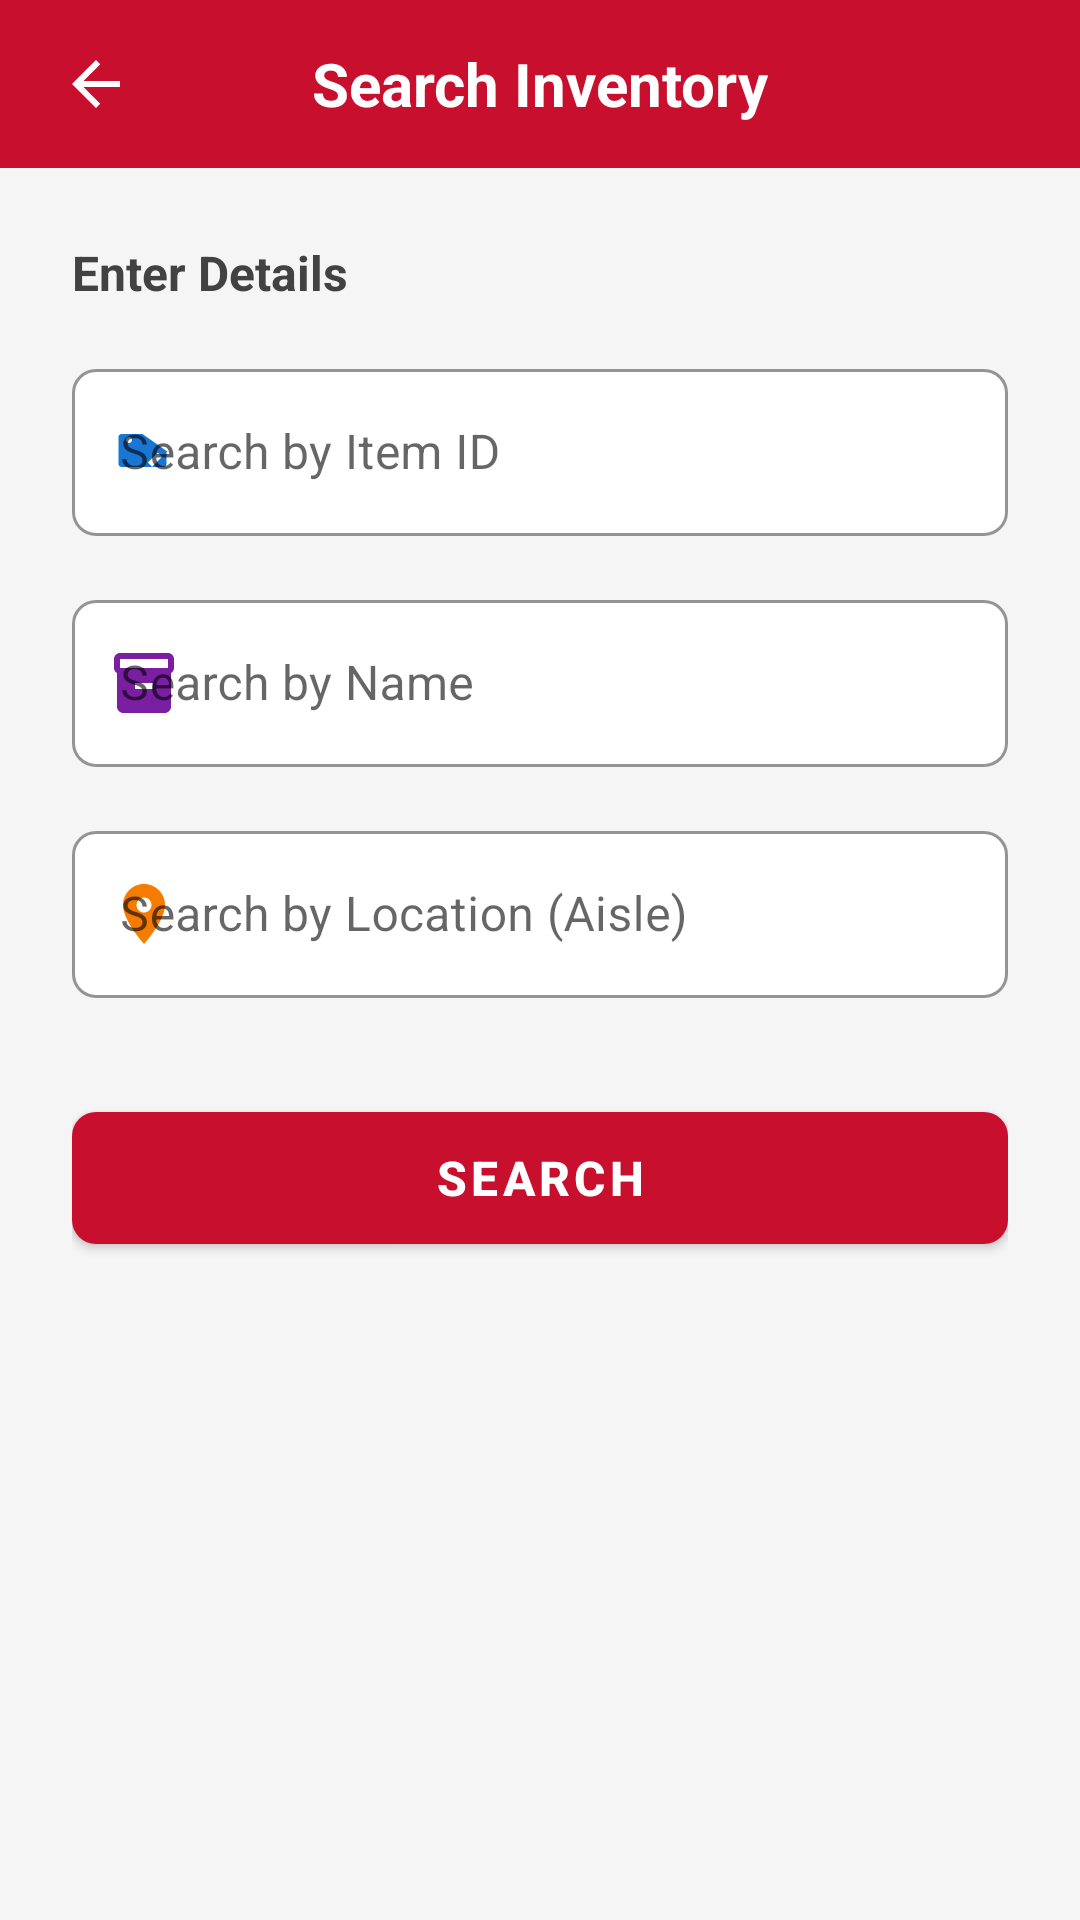

Icon bounding boxes for this 1080×1920 phone screenshot, format (x1, y1, x2, y2):
arrow back: (72, 60, 120, 108)
